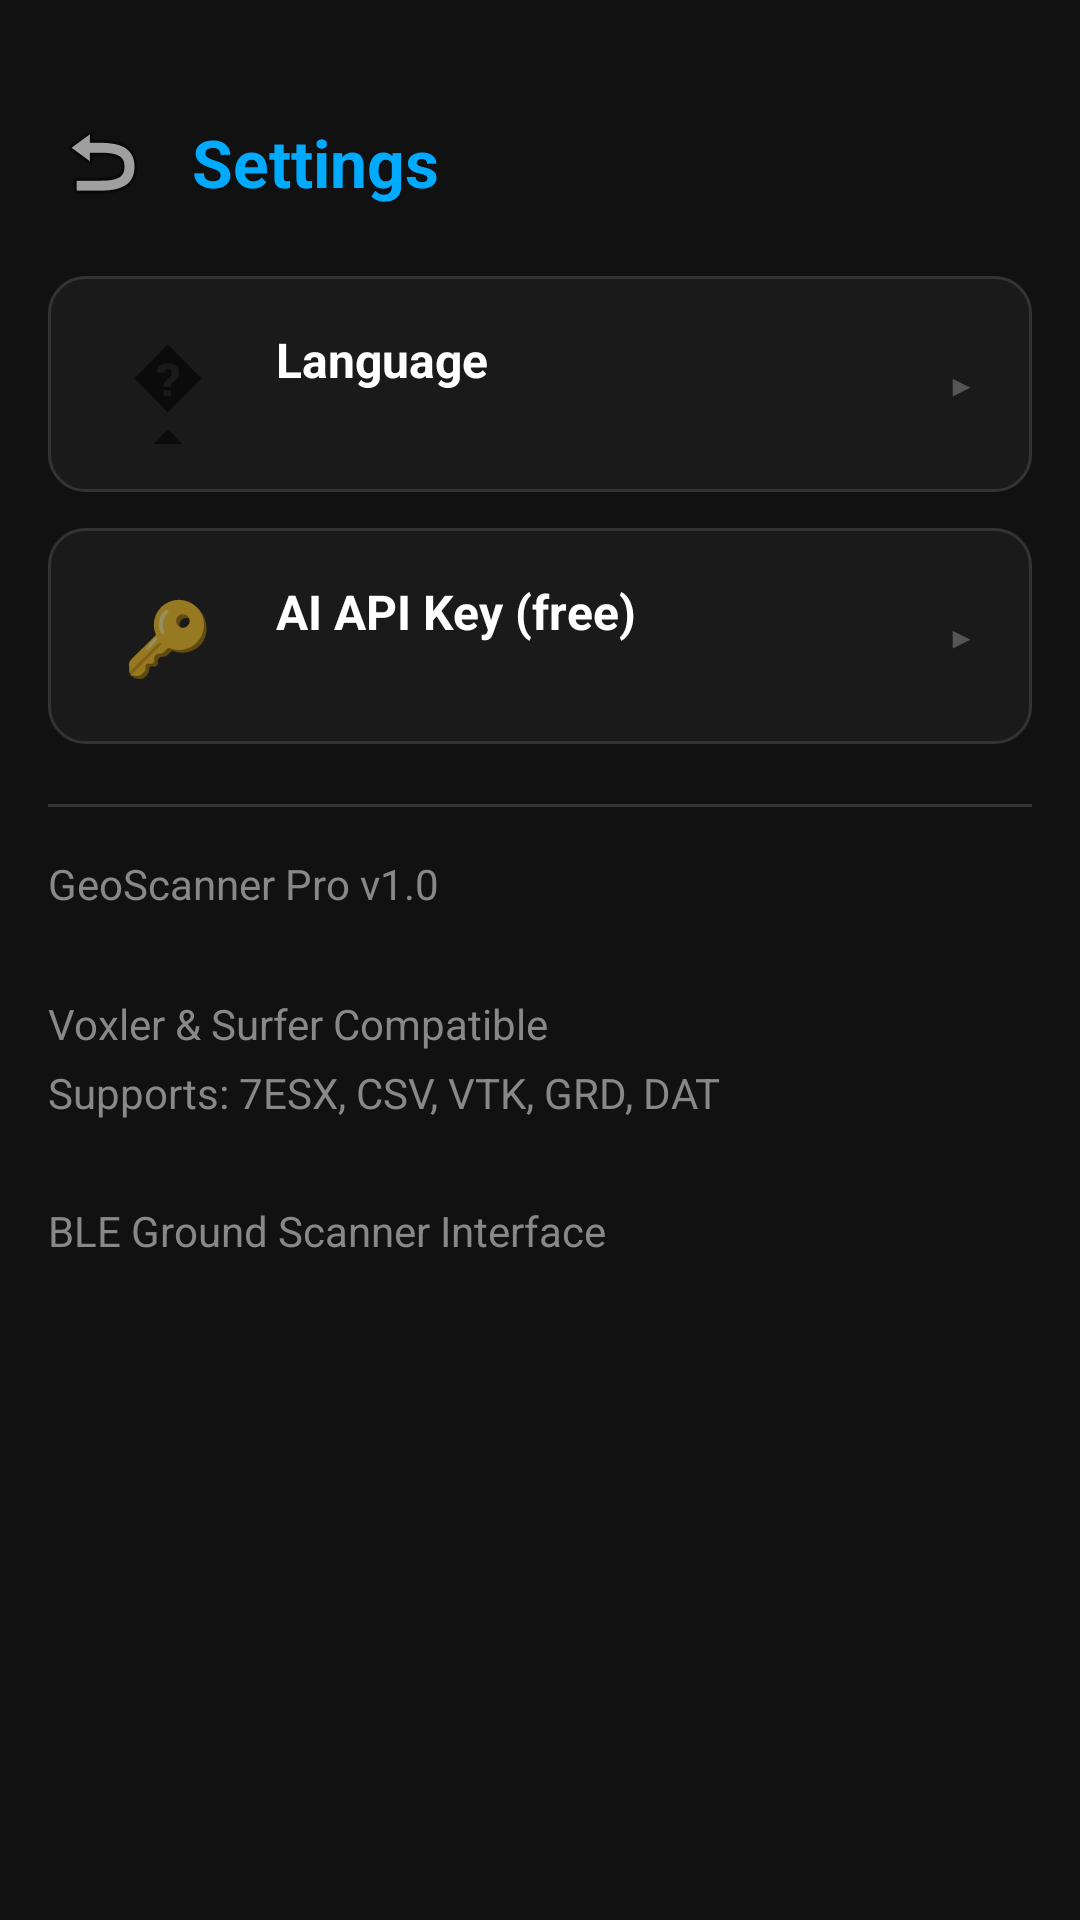

Locate icon controls on the screen. Image size 1080 x 1920, boxes as bbox=(x1, y1, x2, y2).
revert: bbox=(72, 134, 135, 191)
